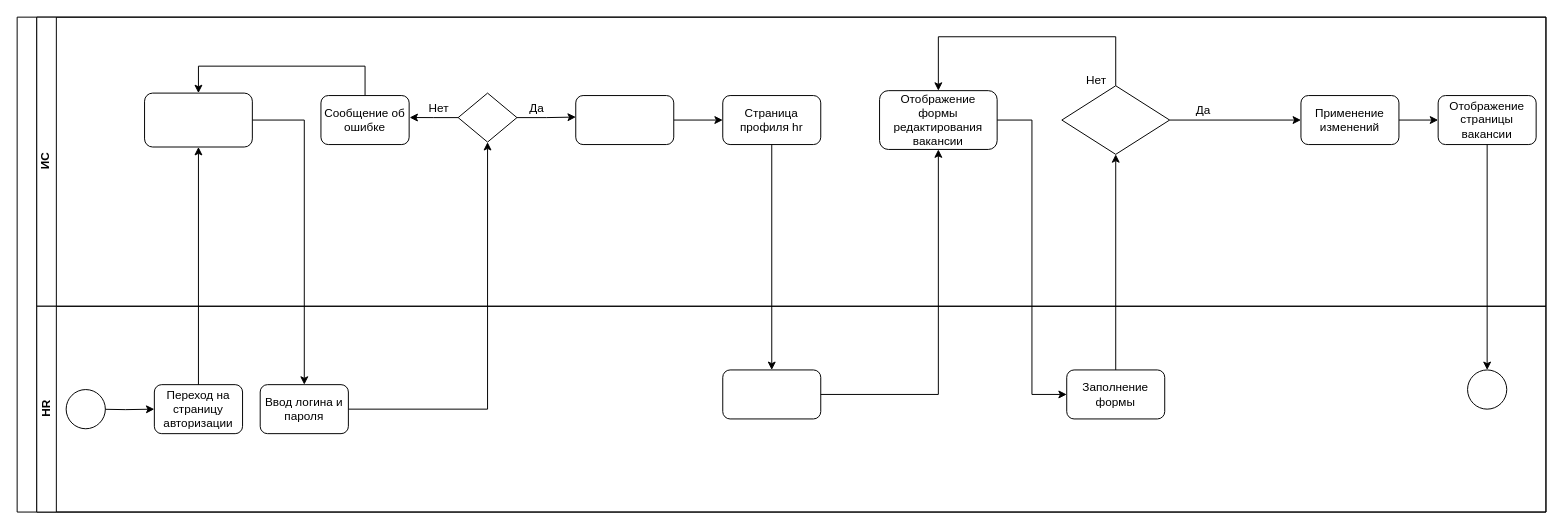
The diagram is 1563 pixels wide and 529 high, and some of its shapes have lost their labels. The centre of each missing label's shape, as x and y in pixels:
"Верны?" goes at point (487, 117).
"Выбор вакансии" goes at point (771, 394).
"Предоставление интерфейса авторизации" goes at point (198, 119).
"Предоставление соответствующих прав" goes at point (624, 120).
"Форма валидна?" goes at point (1115, 119).
